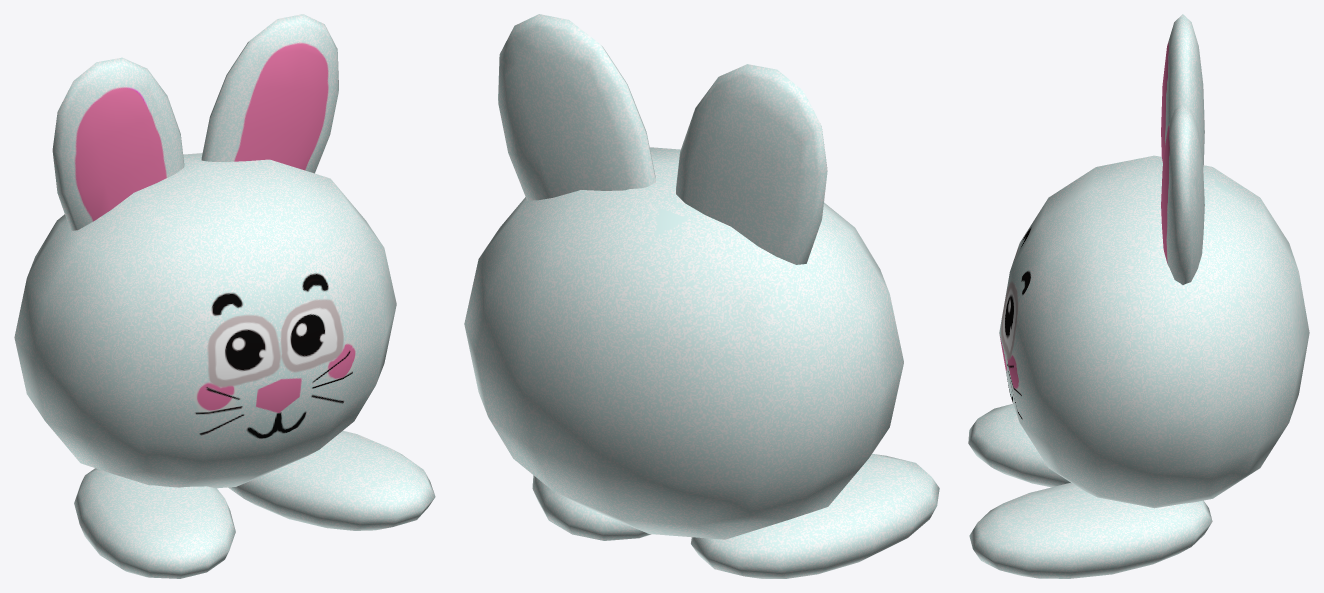
File: zaya.fbx
3 renders of one model, left to right at view 1: azimuth 30°, elevation 25°; view 2: azimuth 150°, elevation 25°; view 3: azimuth 270°, elevation 25°, orthographic. The views are drawn at different scales.
Visible parts, largest first — view 1: zayka, ushi, nogi; view 2: zayka, ushi, nogi; view 3: zayka, nogi, ushi.
Part boxes in pixels (bbox=[...]): zayka: bbox=[14, 153, 396, 488]; ushi: bbox=[52, 14, 338, 231]; nogi: bbox=[74, 431, 435, 578]; zayka: bbox=[464, 147, 903, 539]; ushi: bbox=[498, 14, 827, 264]; nogi: bbox=[532, 453, 939, 578]; zayka: bbox=[999, 155, 1309, 508]; nogi: bbox=[968, 403, 1212, 578]; ushi: bbox=[1161, 14, 1204, 284].
Size of the model in its own units: 14.37 by 18.22 by 12.28.
1 material, 1 textured.
